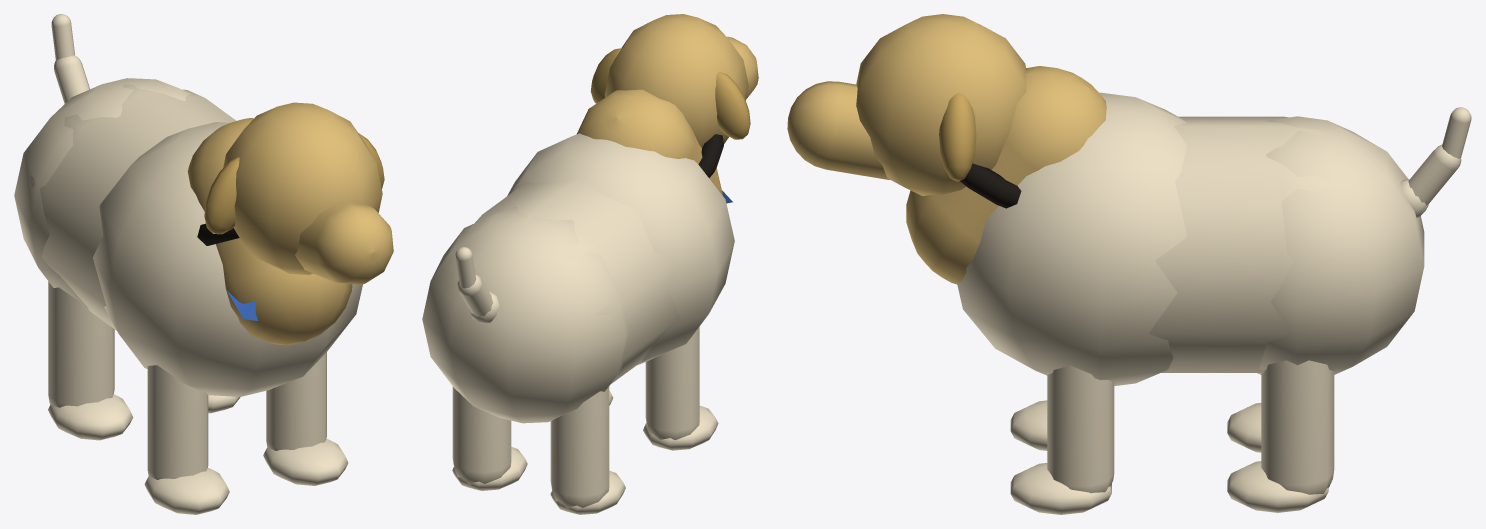
File: dog.glb
The picture shows the model from 3 angles, left to right: view 1: azimuth 30°, elevation 25°; view 2: azimuth 150°, elevation 25°; view 3: azimuth 270°, elevation 25°; orthographic projection. The views are drawn at different scales.
Visible parts, largest first — view 1: coat, head, ears, tailMesh, collar; view 2: coat, head, ears, tailMesh, collar; view 3: coat, head, tailMesh, ears, collar.
Boxes of the visible parts, <box> form: coat: <box>14,78,362,514</box>; head: <box>187,102,393,345</box>; ears: <box>204,133,384,234</box>; tailMesh: <box>51,14,89,103</box>; collar: <box>197,223,239,245</box>; coat: <box>422,133,734,514</box>; head: <box>576,14,758,195</box>; ears: <box>590,48,750,139</box>; tailMesh: <box>455,247,499,323</box>; collar: <box>698,134,723,177</box>; coat: <box>957,92,1424,514</box>; head: <box>787,14,1106,284</box>; tailMesh: <box>1400,107,1471,217</box>; ears: <box>939,92,976,181</box>; collar: <box>960,163,1021,208</box>.
Size of the model in its own units: 0.6 by 1.02 by 1.39.
